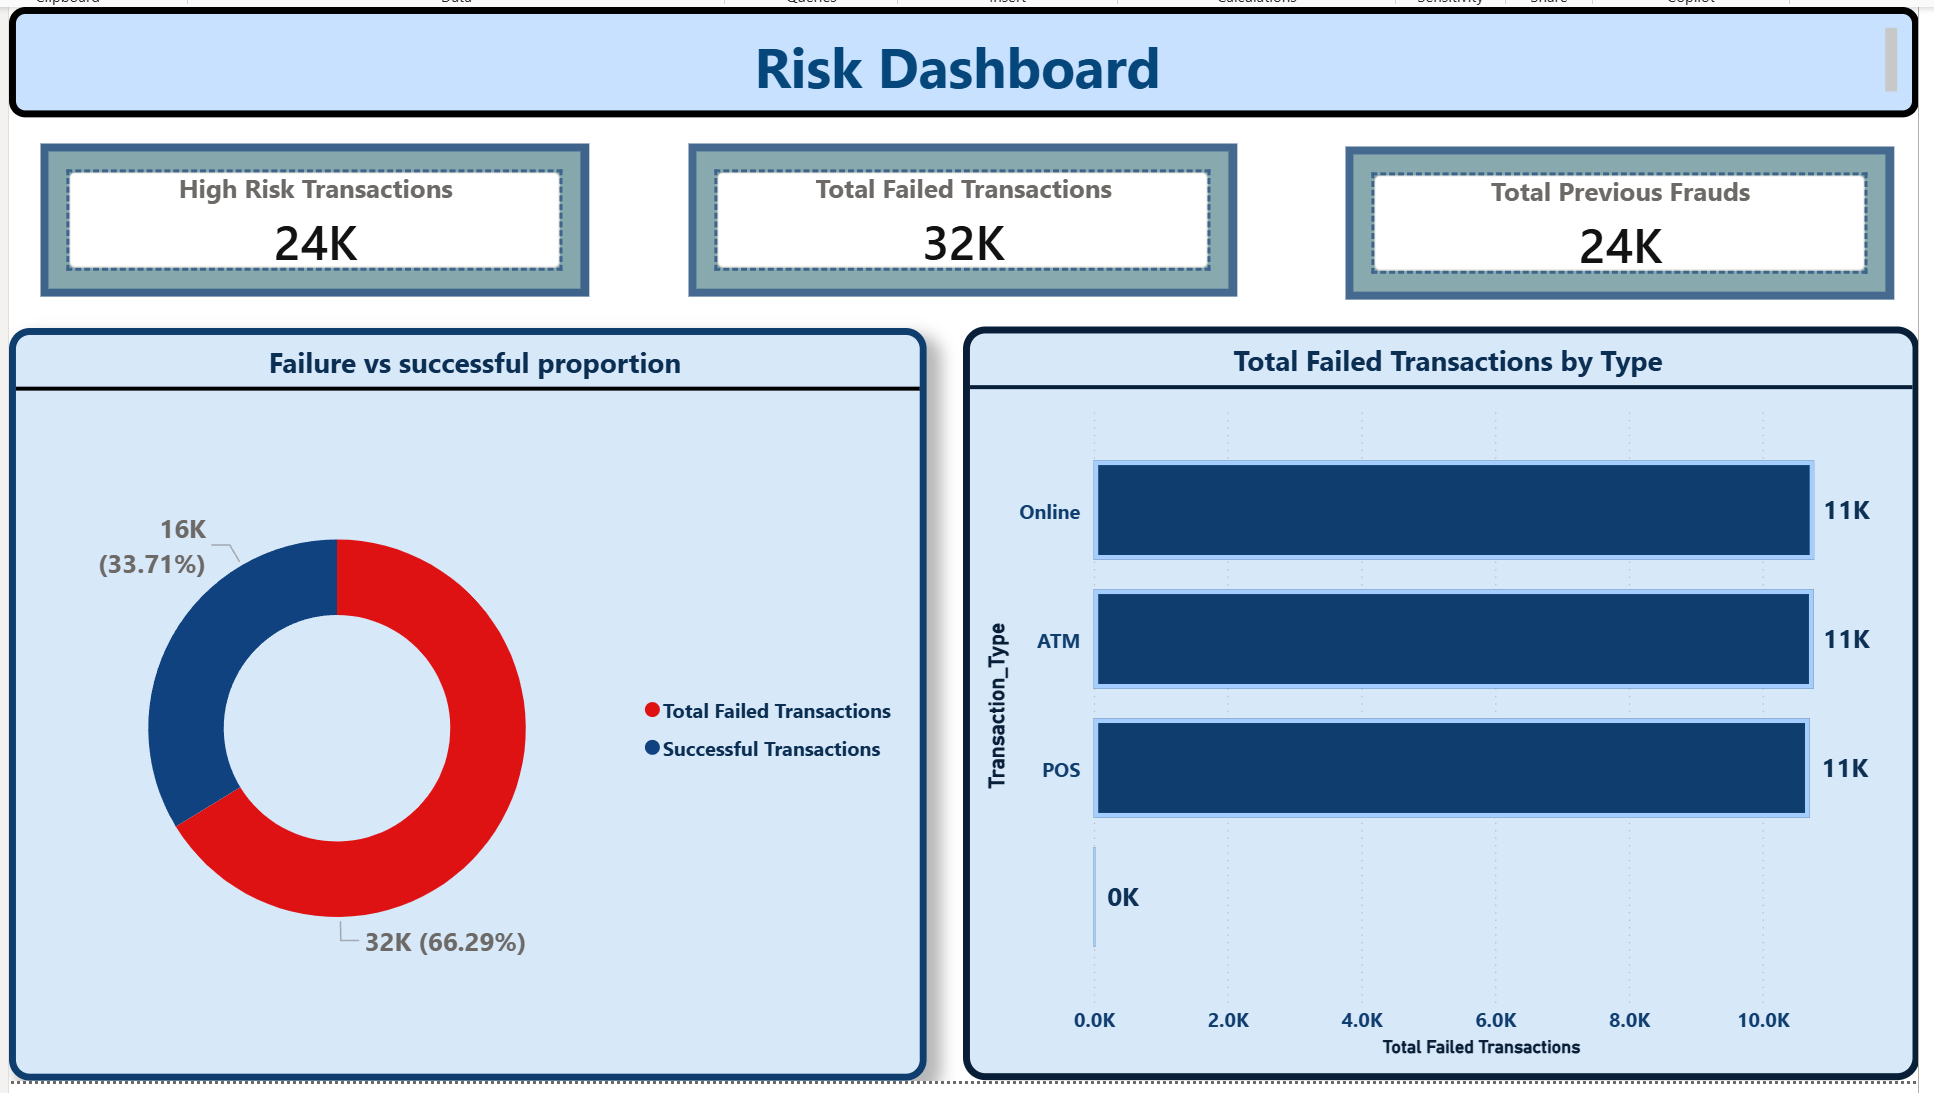

This screenshot's page, from the dashboard's own definition file:
{"tool":"powerbi","page":{"name":"Risk Dashboard","canvas":[1280,720],"ordinal":7},"visuals":[{"type":"textbox","box":[0,0,1280.5,74.2],"z":0},{"type":"cardVisual","fields":{"Data":["FactTransactions.High Risk Transactions"]},"box":[20.8,92,368,102.4],"z":1000},{"type":"cardVisual","fields":{"Data":["FactTransactions.Total Failed Transactions"]},"box":[455.5,92,368,102.4],"z":2000},{"type":"cardVisual","fields":{"Data":["FactTransactions.Total Previous Frauds"]},"box":[896.2,93.5,368,102.4],"z":3000},{"type":"donutChart","title":"Failure vs successful proportion","fields":{"Y":["FactTransactions.Total Failed Transactions","FactTransactions.Successful Transactions"]},"box":[0,215,615.5,504.7],"z":4000},{"type":"barChart","title":"Total Failed Transactions by Type","fields":{"Category":["FactTransactions.Transaction_Type"],"Y":["FactTransactions.Total Failed Transactions"]},"box":[639.4,214.3,641.2,505.5],"z":5000}]}

Visuals, with their boxes in screenshot pixels (x1, y1, x2, y2):
textbox: [left=5, top=0, right=1913, bottom=111]
cardVisual - FactTransactions.High Risk Transactions: [left=36, top=137, right=584, bottom=290]
cardVisual - FactTransactions.Total Failed Transactions: [left=684, top=137, right=1232, bottom=290]
cardVisual - FactTransactions.Total Previous Frauds: [left=1340, top=139, right=1889, bottom=292]
"Failure vs successful proportion" donutChart: [left=5, top=320, right=922, bottom=1072]
"Total Failed Transactions by Type" barChart: [left=958, top=319, right=1913, bottom=1073]
